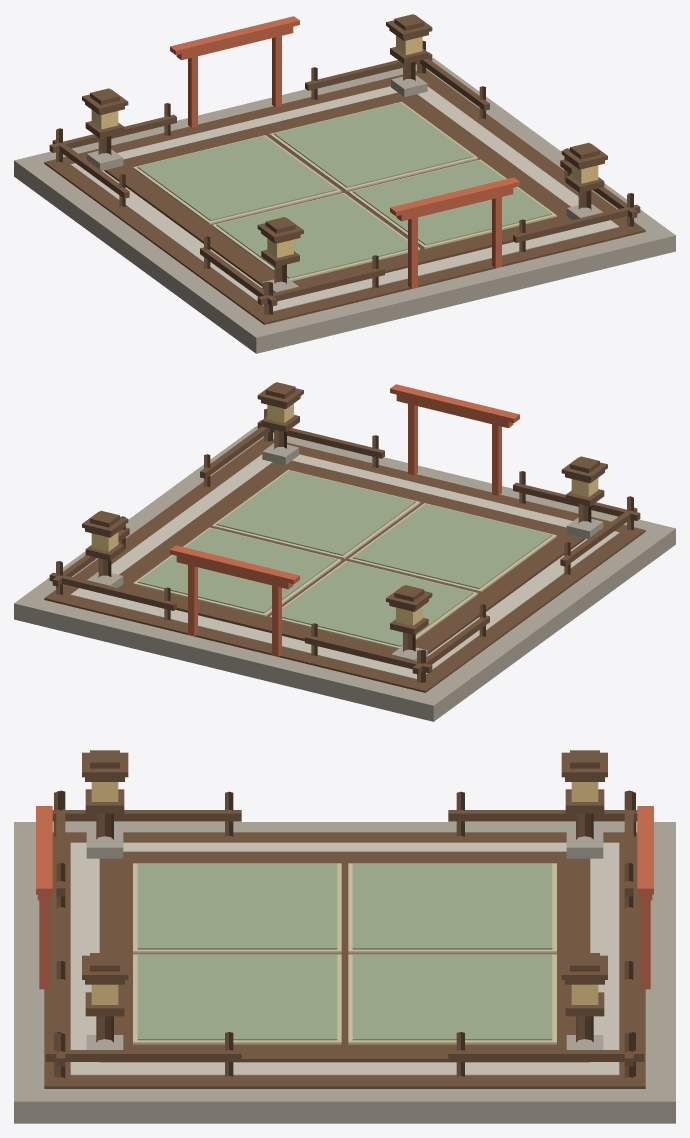
Rendered from stage.glb.
3 renders of one model, top to bottom at view 1: azimuth 30°, elevation 25°; view 2: azimuth 150°, elevation 25°; view 3: azimuth 270°, elevation 25°, orthographic. The views are drawn at different scales.
Visible parts, largest first — view 1: Dark cedar, Tatami, Warm stone, Gravel, Vermilion, Tatami edge, Lantern glow; view 2: Dark cedar, Tatami, Warm stone, Gravel, Vermilion, Tatami edge, Lantern glow; view 3: Tatami, Dark cedar, Warm stone, Gravel, Tatami edge, Vermilion, Lantern glow.
Boxes of the visible parts, <box> form: Dark cedar: <box>44,14,645,324</box>; Tatami: <box>137,102,552,278</box>; Warm stone: <box>14,58,675,353</box>; Gravel: <box>70,86,619,311</box>; Vermilion: <box>170,16,519,288</box>; Tatami edge: <box>133,101,556,281</box>; Lantern glow: <box>91,35,598,257</box>; Dark cedar: <box>44,382,645,692</box>; Tatami: <box>137,470,552,646</box>; Warm stone: <box>14,426,675,721</box>; Gravel: <box>70,454,619,679</box>; Vermilion: <box>170,384,519,656</box>; Tatami edge: <box>133,469,556,649</box>; Lantern glow: <box>91,403,598,625</box>; Tatami: <box>137,863,552,1040</box>; Dark cedar: <box>44,750,645,1088</box>; Warm stone: <box>14,822,675,1123</box>; Gravel: <box>70,842,619,1075</box>; Tatami edge: <box>133,863,556,1044</box>; Vermilion: <box>36,806,653,989</box>; Lantern glow: <box>91,782,598,1004</box>.
Bounding box in the file's own units: 12 × 2.73 × 12.
